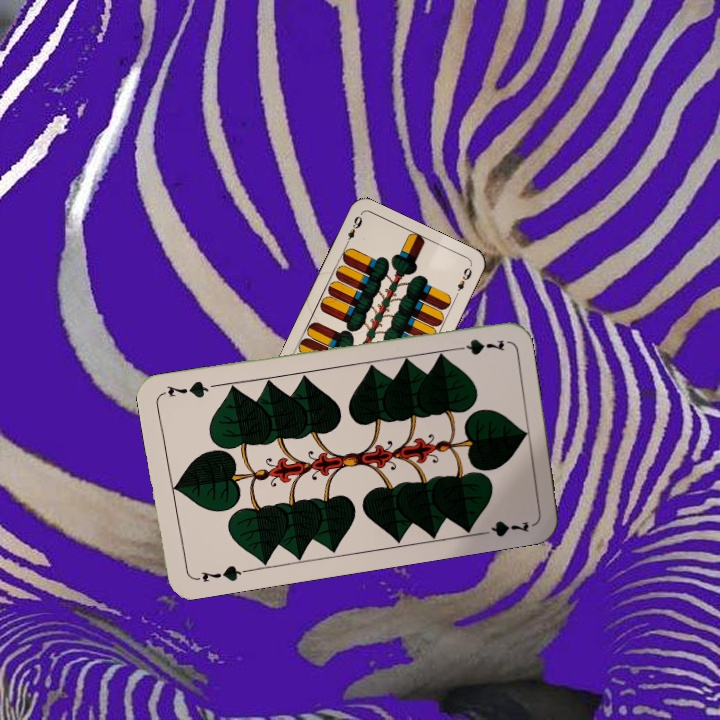E9: (341, 212, 365, 249)
G7: (190, 561, 249, 585), (447, 335, 507, 358)
